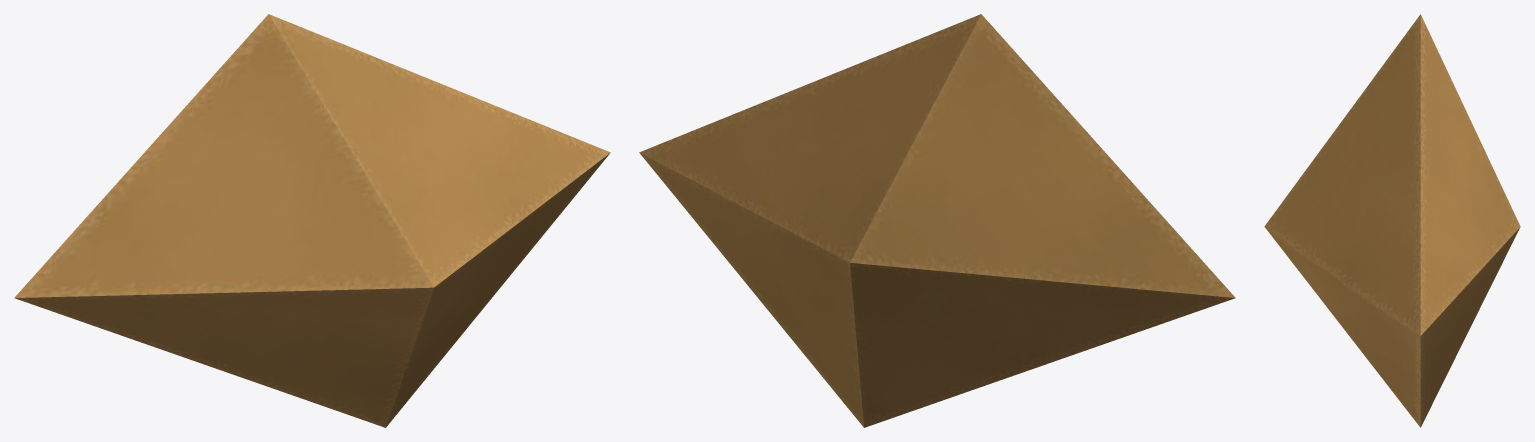
3 views of the same model, side by side, from view 1: azimuth 30°, elevation 25°; view 2: azimuth 150°, elevation 25°; view 3: azimuth 270°, elevation 25° (orthographic). The views are drawn at different scales.
Visible parts, largest first — view 1: Shard_bronze; view 2: Shard_bronze; view 3: Shard_bronze.
Part boxes in pixels (box(x1,y1,x2,y2)): Shard_bronze: box(14, 14, 610, 427); Shard_bronze: box(639, 14, 1235, 427); Shard_bronze: box(1264, 14, 1520, 427).
Bounding box in the file's own units: 0.8519 × 0.6037 × 0.3825.
1 material, 1 textured.
